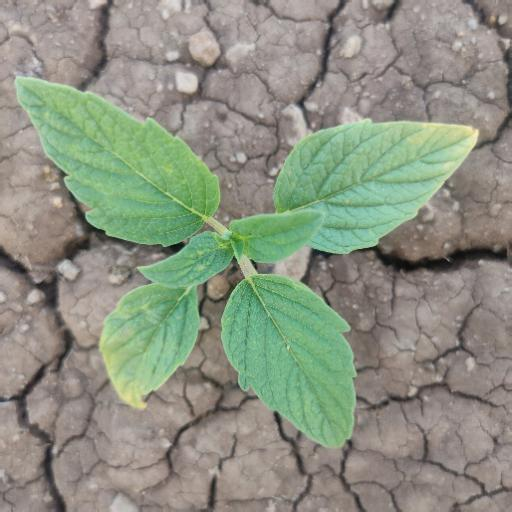crop: (14, 49, 468, 460)
